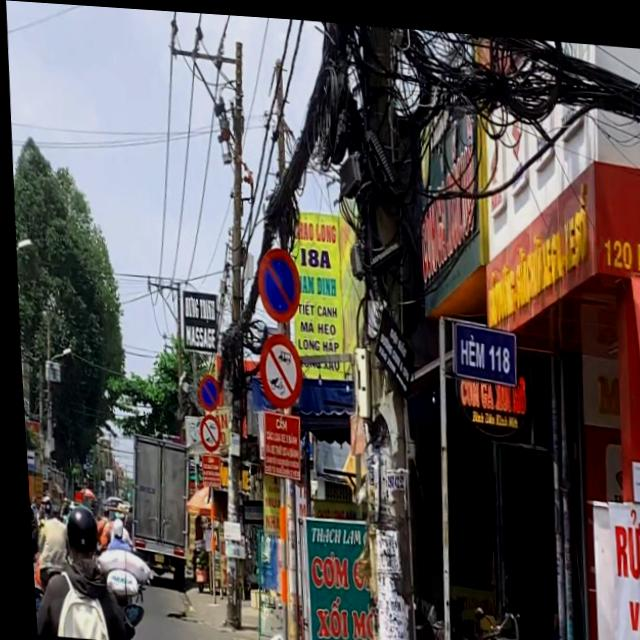Cam do xe: (250, 242, 300, 324), (192, 371, 216, 409)
